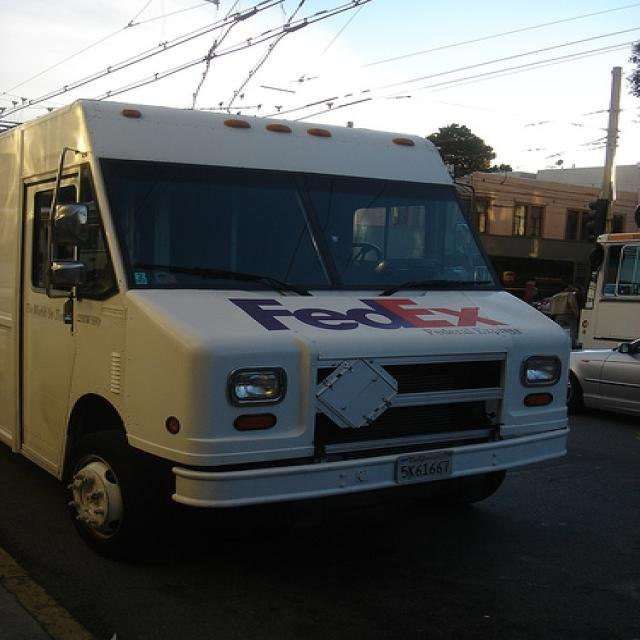fedex: (225, 298, 513, 334)
